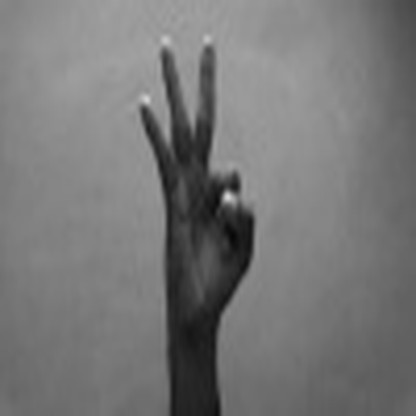f: (124, 22, 261, 329)
